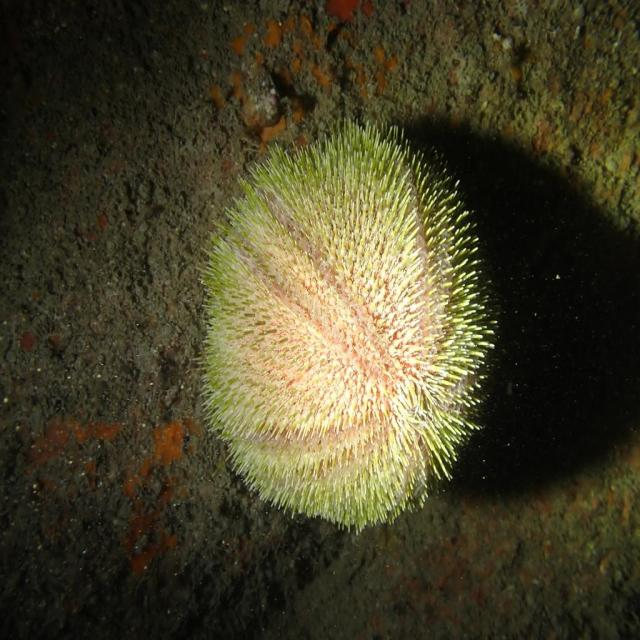Deniz Kestanesi: (192, 115, 499, 537)
